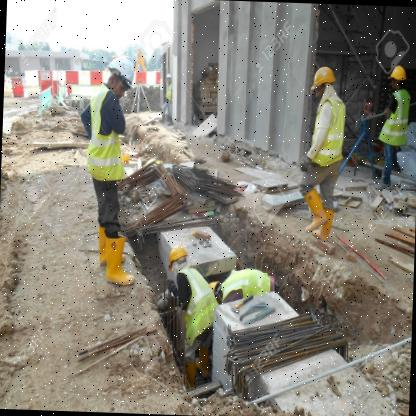capacete: (106, 53, 143, 88), (310, 66, 342, 89), (390, 61, 408, 86)
